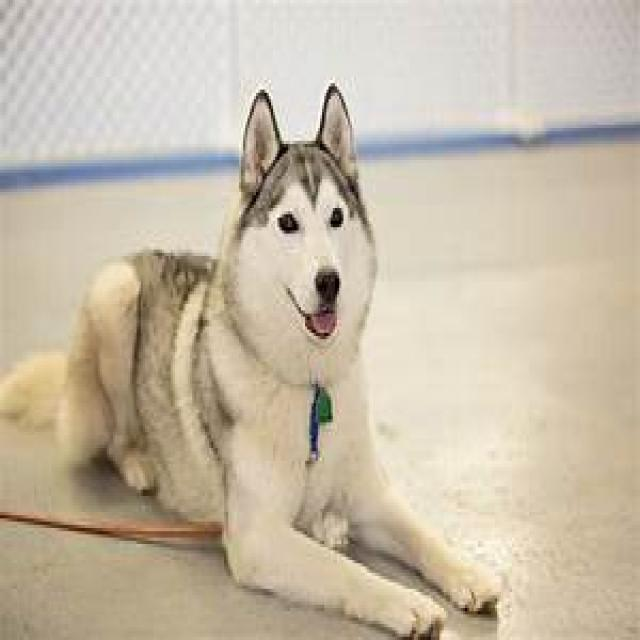dog: (0, 84, 501, 638)
